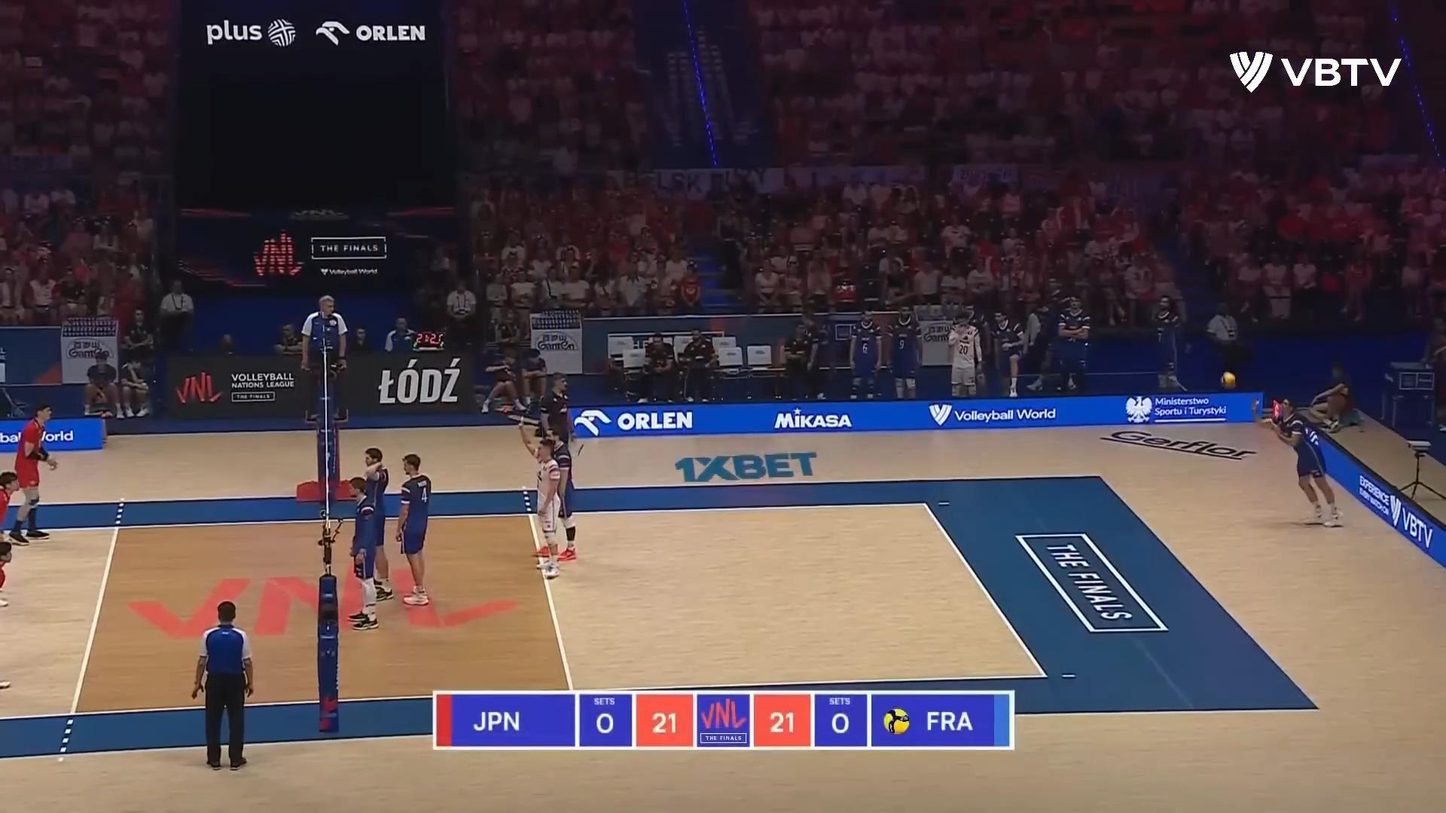ball: (1220, 370, 1239, 390)
